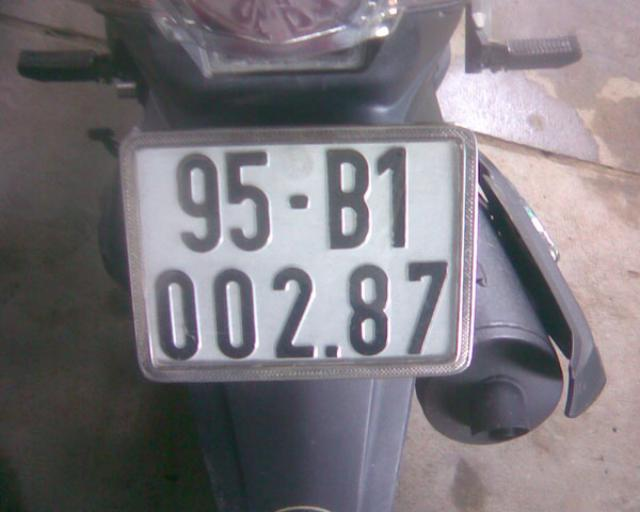plate: (123, 126, 477, 374)
